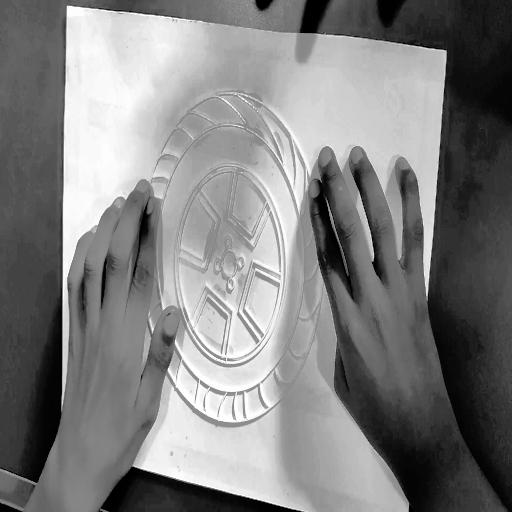bottom_left: (58, 448, 67, 467)
tire: (127, 70, 340, 459)
top_left: (63, 3, 69, 15)
top_right: (443, 44, 451, 58)
